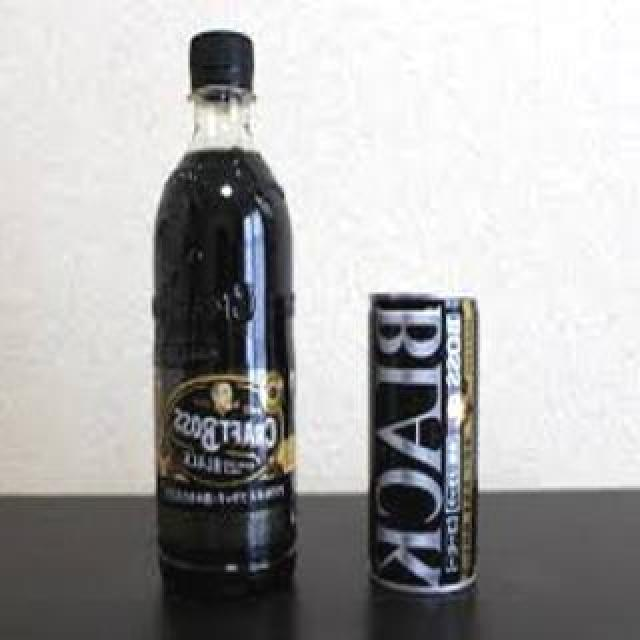Pet_Bottle: (149, 29, 295, 609)
